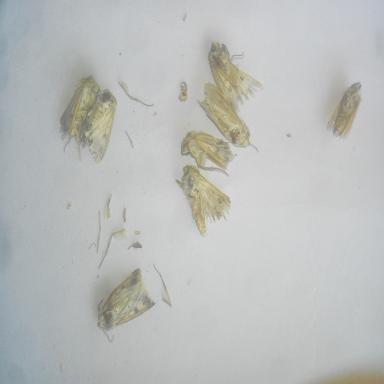abw: (194, 77, 262, 158), (95, 261, 158, 345), (204, 36, 266, 115), (175, 162, 234, 240), (72, 84, 120, 167), (178, 126, 239, 178), (323, 76, 366, 143)
